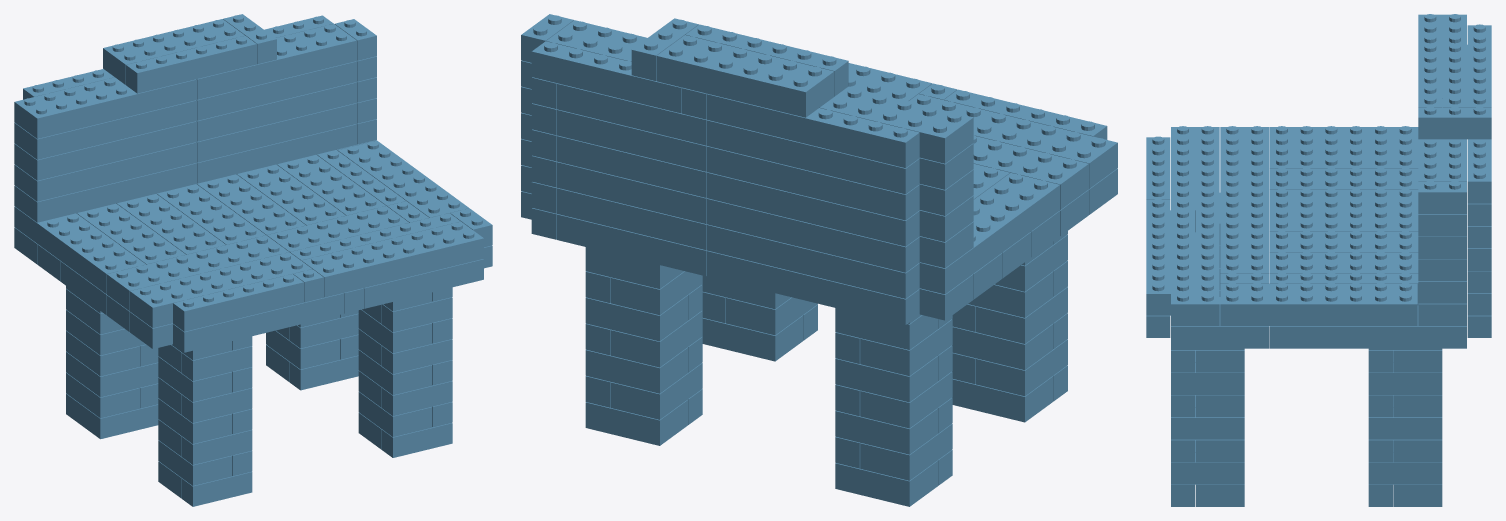
The model's file is 158_chair_L3.glb.
3 renders of one model, left to right at view 1: azimuth 30°, elevation 25°; view 2: azimuth 150°, elevation 25°; view 3: azimuth 270°, elevation 25°, orthographic. The views are drawn at different scales.
Size of the model in its own units: 16.98 by 16.13 by 13.98.
